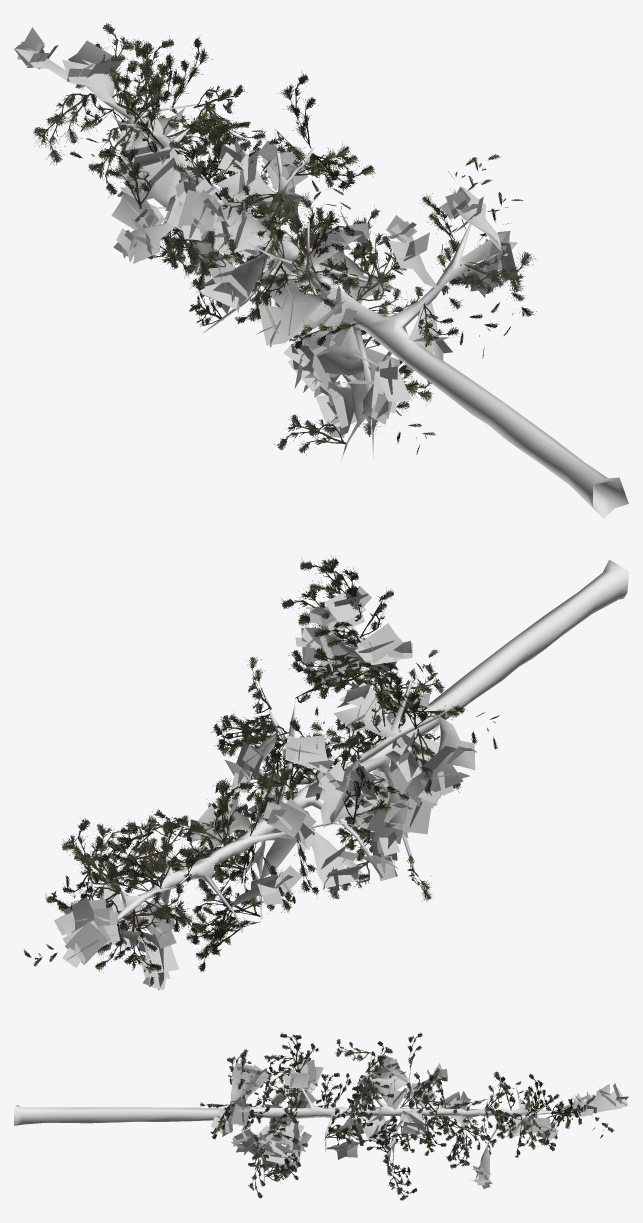
Rendered from PineMeshLOD2.fbx.
The picture shows the model from 3 angles, top to bottom: view 1: azimuth 30°, elevation 25°; view 2: azimuth 150°, elevation 25°; view 3: azimuth 270°, elevation 25°; orthographic projection. The views are drawn at different scales.
Visible parts, largest first — view 1: PineLOD; view 2: PineLOD; view 3: PineLOD.
Part boxes in pixels (x1,y1,x2,y2): PineLOD: [14, 22, 628, 518]; PineLOD: [24, 555, 628, 989]; PineLOD: [14, 1033, 628, 1200].
Bounding box in the file's own units: 1966 × 2154 × 7128.
